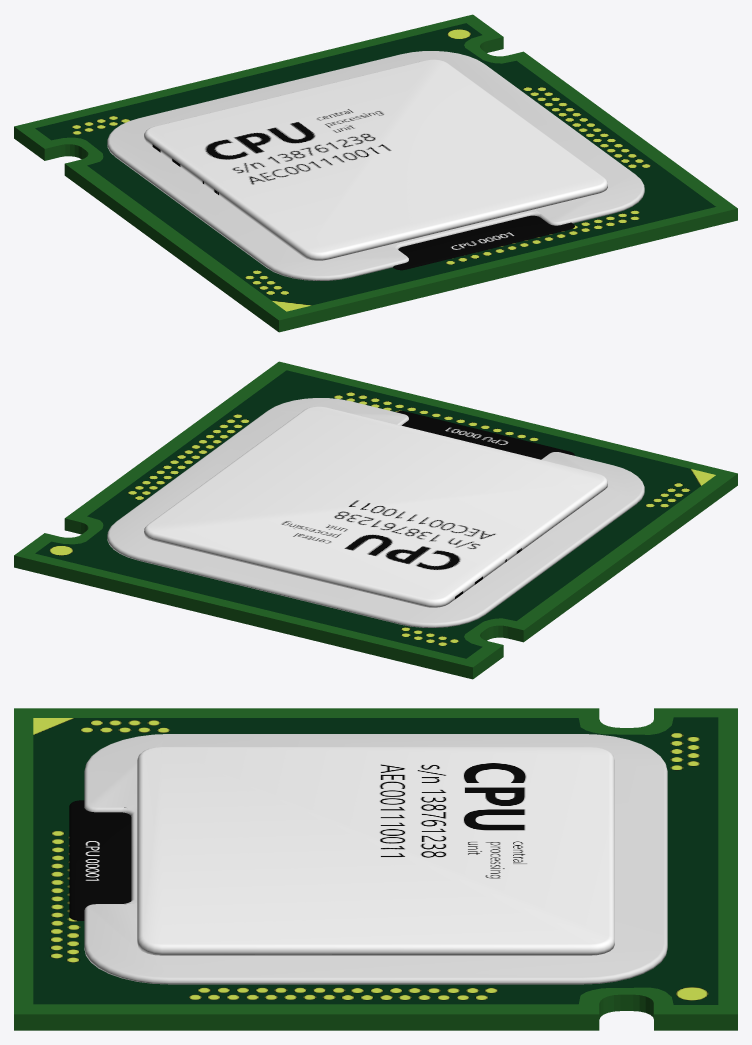
File: Processor 0.01.fbx
3 views of the same model, one above another, from view 1: azimuth 30°, elevation 25°; view 2: azimuth 150°, elevation 25°; view 3: azimuth 270°, elevation 25° (orthographic). The views are drawn at different scales.
Visible parts, largest first — view 1: Плоскость.002, Плоскость, Плоскость.001, Плоскость.003; view 2: Плоскость.002, Плоскость, Плоскость.001, Плоскость.003; view 3: Плоскость.002, Плоскость, Плоскость.001, Плоскость.003.
Boxes of the visible parts, x1,y1,x2,y2 form: Плоскость.002: (144,59,607,260); Плоскость: (14,14,737,332); Плоскость.001: (107,51,644,280); Плоскость.003: (393,215,574,270); Плоскость.002: (144,406,607,607); Плоскость: (14,361,737,679); Плоскость.001: (107,398,644,627); Плоскость.003: (396,411,574,459); Плоскость.002: (137,747,614,955); Плоскость: (14,708,737,1030); Плоскость.001: (84,734,667,984); Плоскость.003: (69,800,131,920).
Size of the model in its own units: 200 by 9.75 by 200.
